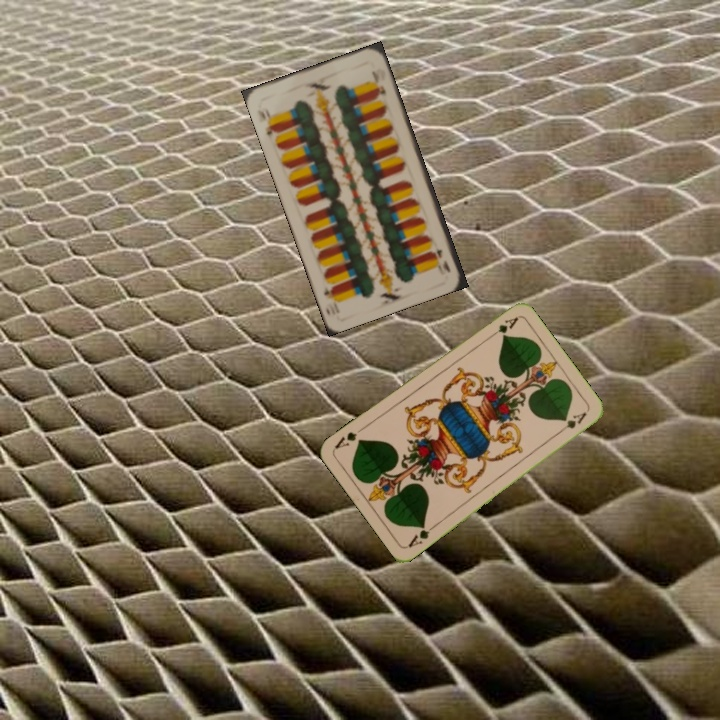E10: (254, 104, 280, 138), (430, 244, 453, 275)
GA: (404, 520, 439, 550), (484, 313, 521, 341)
